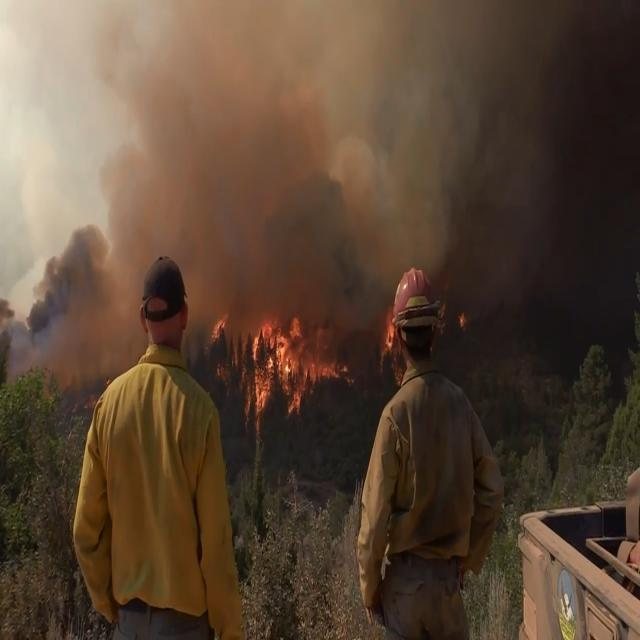Fire: (208, 292, 345, 436)
